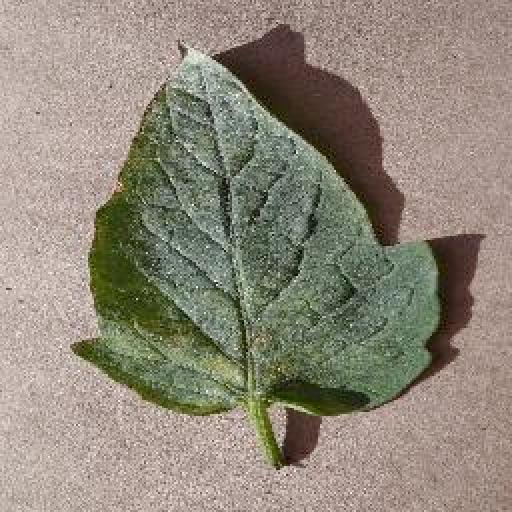disease_tomato: (71, 42, 441, 420)
